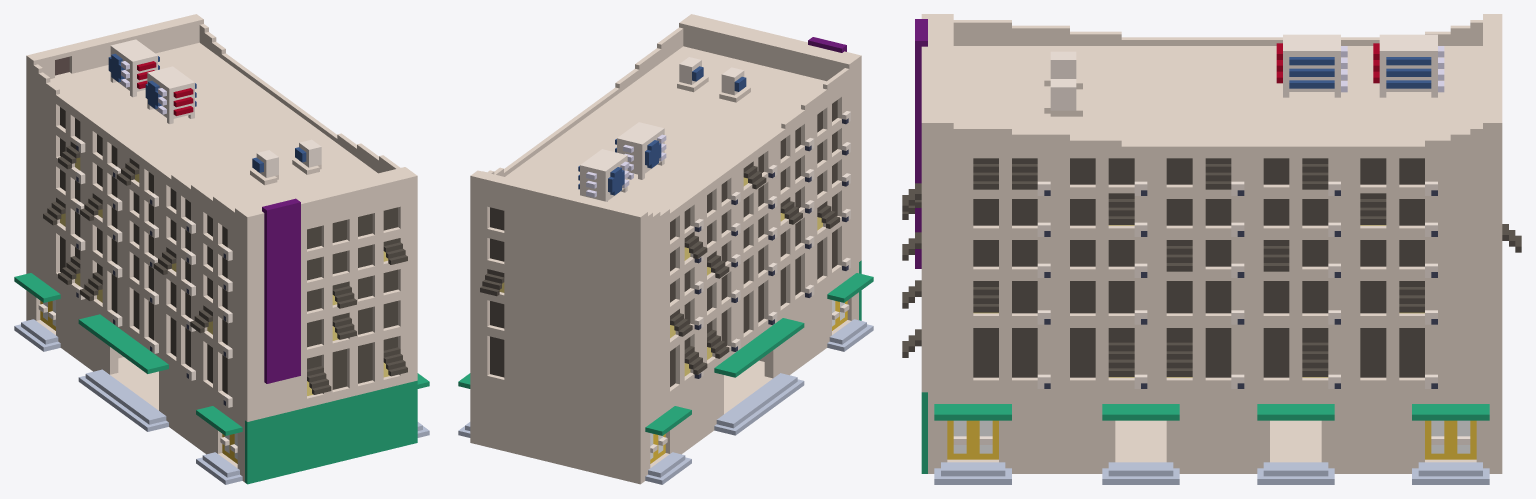
Rendered from start-up-zone-cheng-dao.obj.
3 renders of one model, left to right at view 1: azimuth 30°, elevation 25°; view 2: azimuth 150°, elevation 25°; view 3: azimuth 270°, elevation 25°, orthographic. The views are drawn at different scales.
Size of the model in its own units: 4.9 by 6.3 by 9.6.
1 material, 1 textured.
